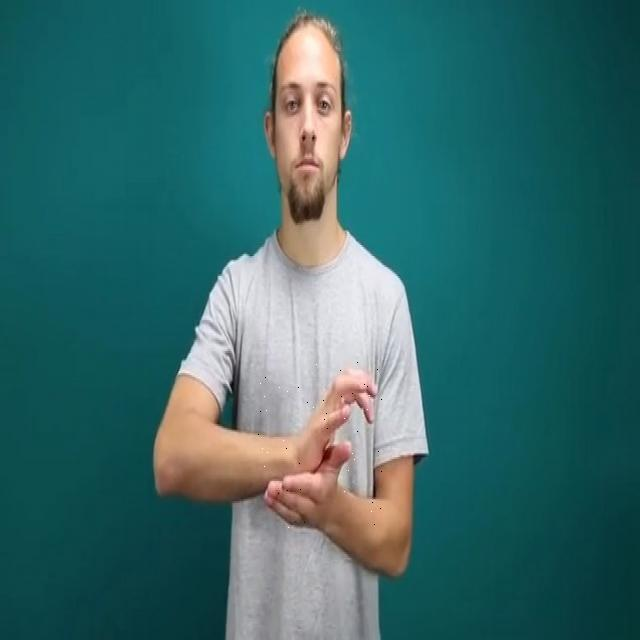cheese: (256, 359, 384, 529)
